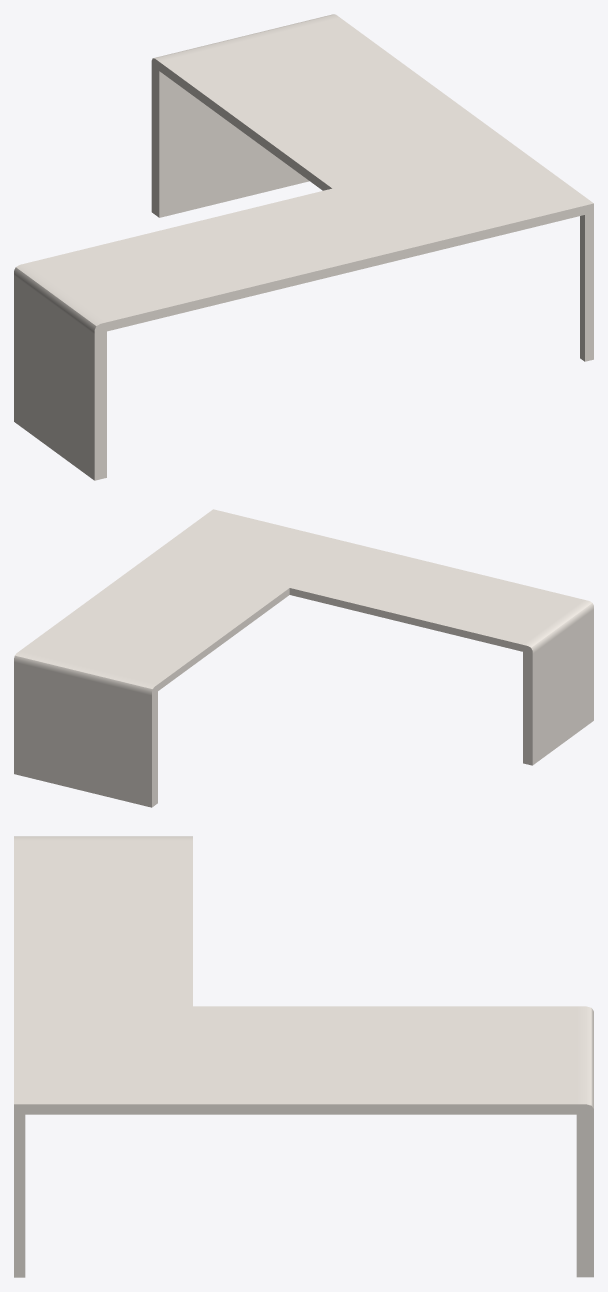
The model's file is Desk (1).fbx.
The picture shows the model from 3 angles, top to bottom: view 1: azimuth 30°, elevation 25°; view 2: azimuth 150°, elevation 25°; view 3: azimuth 270°, elevation 25°; orthographic projection. The views are drawn at different scales.
Visible parts, largest first — view 1: DeskBO_OBJ; view 2: DeskBO_OBJ; view 3: DeskBO_OBJ.
Part boxes in pixels (x1,y1,x2,y2): DeskBO_OBJ: (14,14,593,480); DeskBO_OBJ: (14,509,593,807); DeskBO_OBJ: (14,836,593,1277).
Bounding box in the file's own units: 237 × 70.9 × 215.
Materials: 1 (1 with a texture image).
